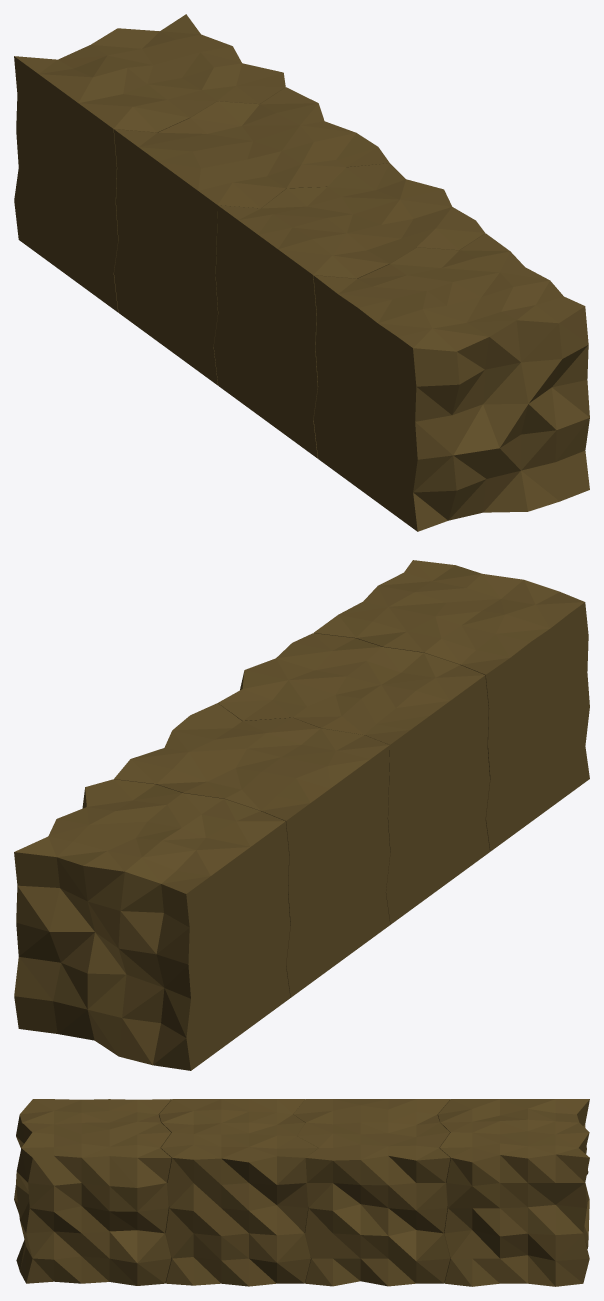
File: SM_startpath_alt_DE.fbx
The picture shows the model from 3 angles, top to bottom: view 1: azimuth 30°, elevation 25°; view 2: azimuth 150°, elevation 25°; view 3: azimuth 270°, elevation 25°; orthographic projection. The views are drawn at different scales.
Visible parts, largest first — view 1: SM_startpath_1_alt_DE, SM_startpath_rightmid_alt_DE, SM_startpath_leftmid_alt_DE, SM_startpath_2_alt_DE; view 2: SM_startpath_2_alt_DE, SM_startpath_leftmid_alt_DE, SM_startpath_rightmid_alt_DE, SM_startpath_1_alt_DE; view 3: SM_startpath_1_alt_DE, SM_startpath_2_alt_DE, SM_startpath_rightmid_alt_DE, SM_startpath_leftmid_alt_DE.
Boxes of the visible parts, box(x1,y1,x2,y2) form: SM_startpath_1_alt_DE: box(313, 233, 589, 531); SM_startpath_rightmid_alt_DE: box(114, 87, 389, 385); SM_startpath_leftmid_alt_DE: box(213, 163, 485, 458); SM_startpath_2_alt_DE: box(14, 14, 285, 312); SM_startpath_2_alt_DE: box(14, 779, 290, 1070); SM_startpath_leftmid_alt_DE: box(218, 633, 489, 924); SM_startpath_rightmid_alt_DE: box(114, 703, 390, 997); SM_startpath_1_alt_DE: box(314, 560, 589, 851); SM_startpath_1_alt_DE: box(14, 1099, 171, 1285); SM_startpath_2_alt_DE: box(437, 1099, 589, 1286); SM_startpath_rightmid_alt_DE: box(293, 1099, 450, 1286); SM_startpath_leftmid_alt_DE: box(159, 1099, 318, 1286).
Size of the model in its own units: 130 by 123 by 498.
